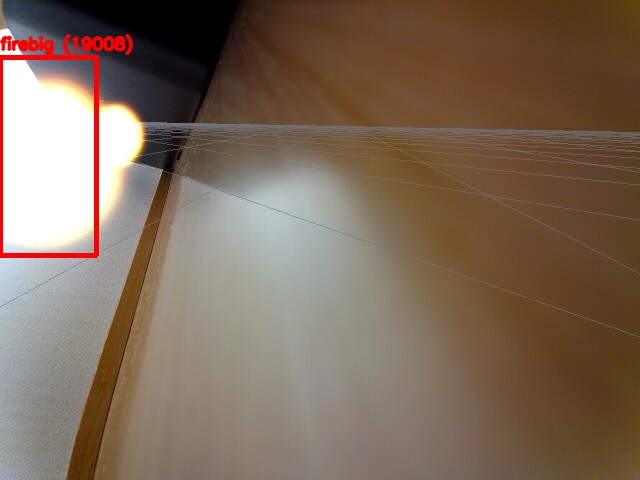firebig: (0, 57, 96, 255)
